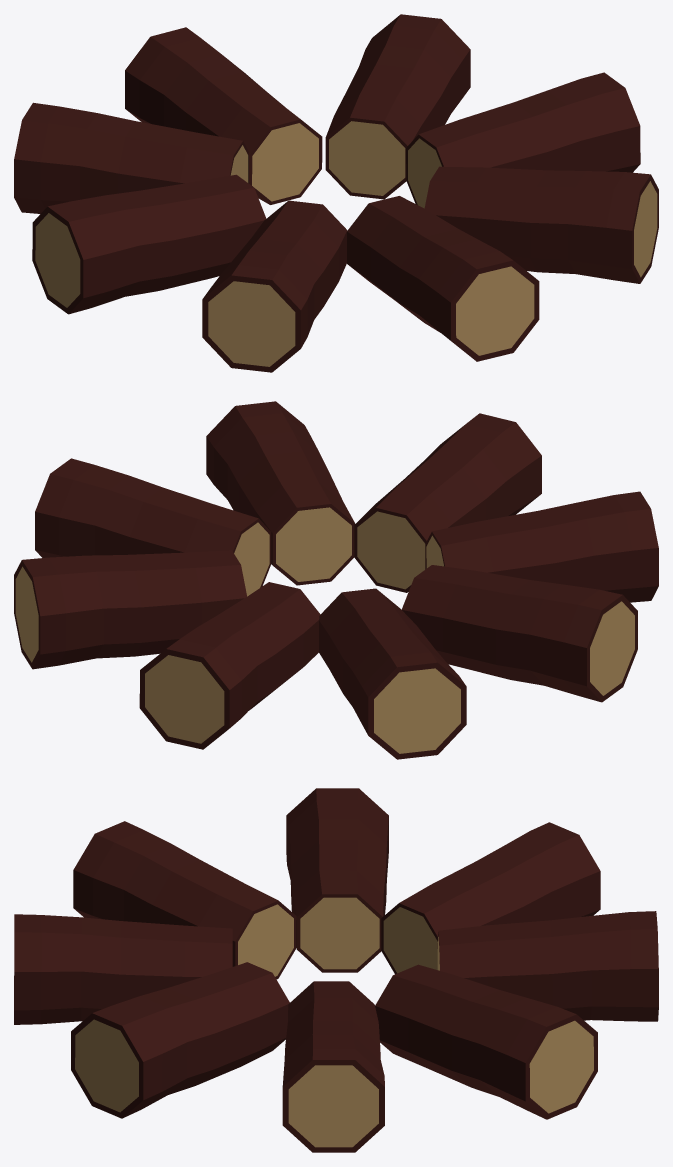
File: SM_Campfire_01.fbx
The picture shows the model from 3 angles, top to bottom: view 1: azimuth 30°, elevation 25°; view 2: azimuth 150°, elevation 25°; view 3: azimuth 270°, elevation 25°; orthographic projection.
Parts seen in each view (by area): view 1: Campfire; view 2: Campfire; view 3: Campfire.
Part boxes in pixels (x1,y1,x2,y2): Campfire: (14,14,658,372); Campfire: (14,401,658,759); Campfire: (14,788,658,1152).
Bounding box in the file's own units: 62.74 × 10 × 62.88.
